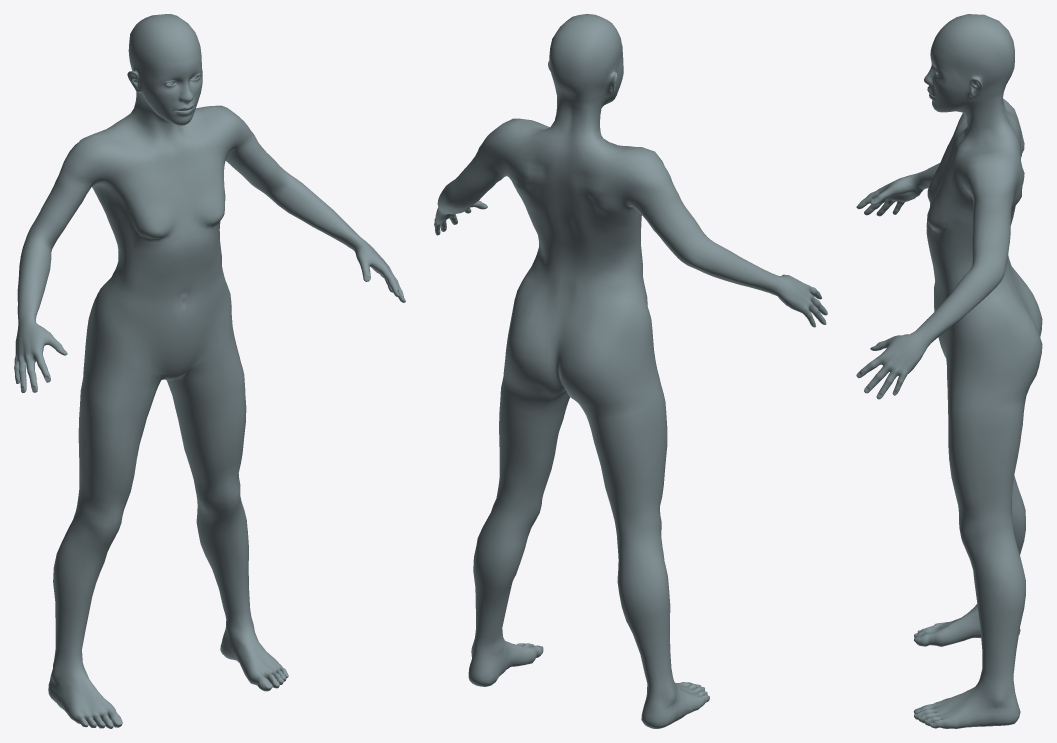
Rendered from scale-mannequin.glb.
3 views of the same model, side by side, from view 1: azimuth 30°, elevation 25°; view 2: azimuth 150°, elevation 25°; view 3: azimuth 270°, elevation 25° (orthographic).
Visible parts, largest first — view 1: scale-mannequin__steel; view 2: scale-mannequin__steel; view 3: scale-mannequin__steel.
Boxes of the visible parts, x1,y1,x2,y2 form: scale-mannequin__steel: (14,14,405,728); scale-mannequin__steel: (434,14,827,728); scale-mannequin__steel: (856,14,1042,728).
Size of the model in its own units: 1.06 by 1.78 by 0.452.
